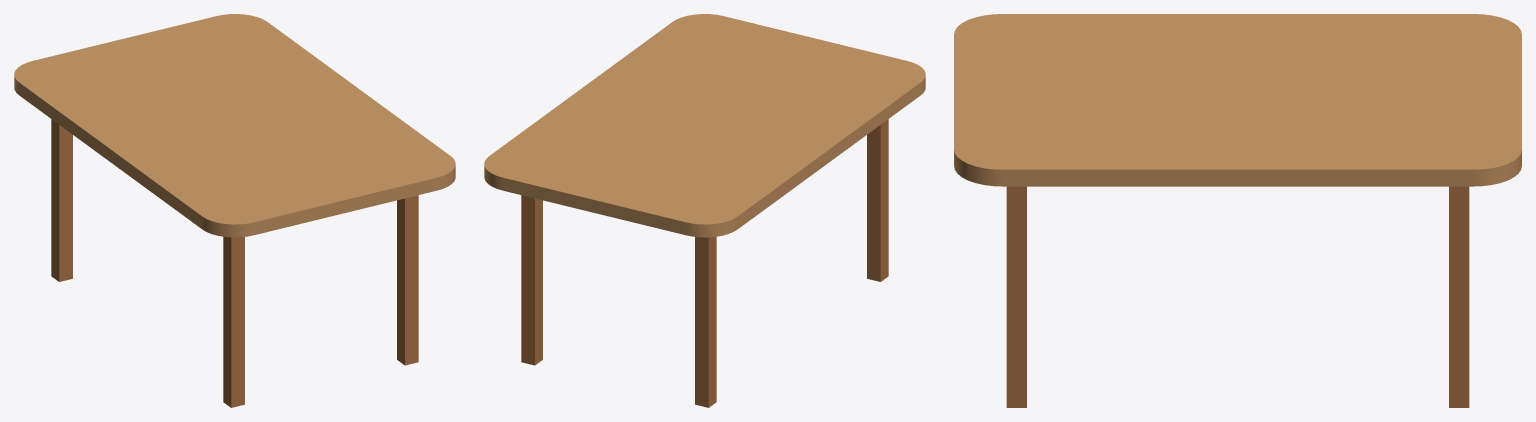
File: dining-table.gltf
3 views of the same model, side by side, from view 1: azimuth 30°, elevation 25°; view 2: azimuth 150°, elevation 25°; view 3: azimuth 270°, elevation 25° (orthographic). The views are drawn at different scales.
Parts seen in each view (by area): view 1: Dining table rounded oak top, Dining table leg (×3); view 2: Dining table rounded oak top, Dining table leg (×3); view 3: Dining table rounded oak top, Dining table leg (×2).
Part boxes in pixels (bbox=[...]): Dining table rounded oak top: bbox=[14, 14, 455, 237]; Dining table leg (×3): bbox=[51, 119, 418, 407]; Dining table rounded oak top: bbox=[484, 14, 925, 237]; Dining table leg (×3): bbox=[521, 119, 888, 407]; Dining table rounded oak top: bbox=[954, 14, 1521, 186]; Dining table leg (×2): bbox=[1006, 186, 1469, 407].
Size of the model in its own units: 1 by 0.77 by 1.54.
